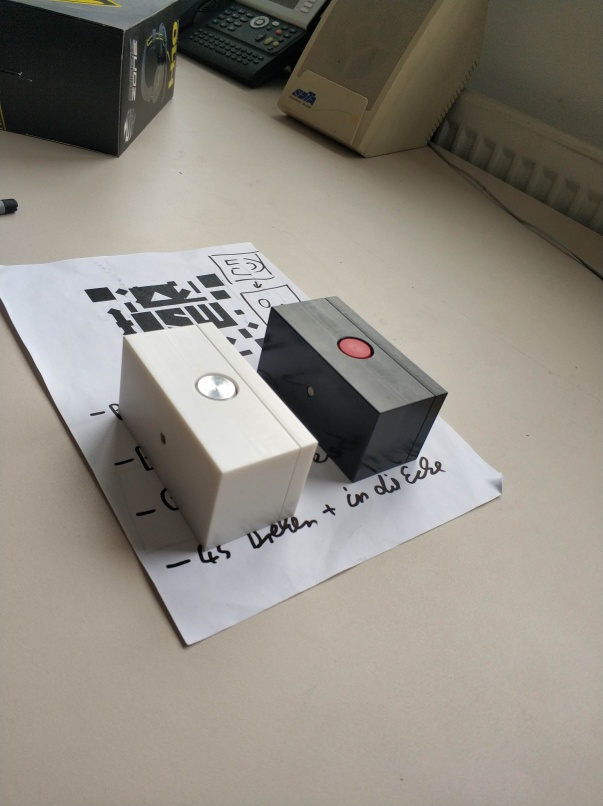black+black+red: (257, 295, 450, 486)
white+white+silver: (113, 321, 321, 555)
